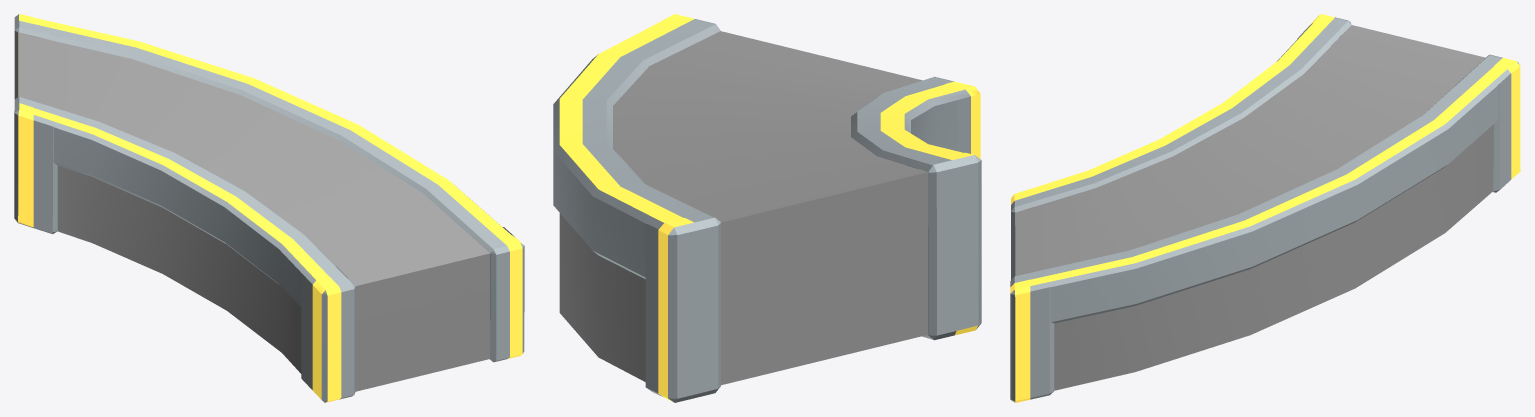
The model's file is SM_60DegreeUpwards_v1.fbx.
3 views of the same model, side by side, from view 1: azimuth 30°, elevation 25°; view 2: azimuth 150°, elevation 25°; view 3: azimuth 270°, elevation 25° (orthographic). The views are drawn at different scales.
Parts seen in each view (by area): view 1: SM_60DegUpwards_HologramMain_v1, SM_60DegUpwards_MainStructure_v1, SM_60DegUpwards_HologramInner_v1, SM_60DegUpwards_HologramLower_v1, SM_60DegUpwards_LowerStructure_v1, SM_60DegUpwards_InnerStructure_v1, SM_60DegUpwards_HologramMainLower_v1, SM_60DegUpwards_OuterStructure_v1; view 2: SM_60DegUpwards_HologramMain_v1, SM_60DegUpwards_MainStructure_v1, SM_60DegUpwards_HologramUpper_v1, SM_60DegUpwards_OuterStructure_v1, SM_60DegUpwards_HologramMain_Upper_v1, SM_60DegUpwards_InnerStructure_v1, SM_60DegUpwards_HologramOuter_v1, SM_60DegUpwards_UpperStructure_v1; view 3: SM_60DegUpwards_HologramMain_v1, SM_60DegUpwards_MainStructure_v1, SM_60DegUpwards_HologramOuter_v1, SM_60DegUpwards_OuterStructure_v1, SM_60DegUpwards_LowerStructure_v1.
Part boxes in pixels (box(x1,y1,x2,y2)): SM_60DegUpwards_HologramMain_v1: box(19, 33, 489, 285); SM_60DegUpwards_MainStructure_v1: box(18, 18, 510, 323); SM_60DegUpwards_HologramInner_v1: box(57, 165, 301, 373); SM_60DegUpwards_HologramLower_v1: box(355, 289, 489, 391); SM_60DegUpwards_LowerStructure_v1: box(311, 227, 522, 402); SM_60DegUpwards_InnerStructure_v1: box(14, 97, 338, 402); SM_60DegUpwards_HologramMainLower_v1: box(355, 253, 489, 321); SM_60DegUpwards_OuterStructure_v1: box(14, 14, 524, 352); SM_60DegUpwards_HologramMain_v1: box(613, 31, 927, 222); SM_60DegUpwards_MainStructure_v1: box(553, 19, 970, 278); SM_60DegUpwards_HologramUpper_v1: box(721, 227, 927, 385); SM_60DegUpwards_OuterStructure_v1: box(645, 14, 720, 402); SM_60DegUpwards_HologramMain_Upper_v1: box(721, 172, 927, 277); SM_60DegUpwards_InnerStructure_v1: box(906, 76, 981, 339); SM_60DegUpwards_HologramOuter_v1: box(559, 213, 645, 381); SM_60DegUpwards_UpperStructure_v1: box(646, 165, 977, 340); SM_60DegUpwards_HologramMain_v1: box(1015, 25, 1485, 276); SM_60DegUpwards_MainStructure_v1: box(1011, 17, 1510, 323); SM_60DegUpwards_HologramOuter_v1: box(1054, 125, 1493, 390); SM_60DegUpwards_OuterStructure_v1: box(1012, 54, 1520, 402); SM_60DegUpwards_LowerStructure_v1: box(1010, 194, 1050, 402).
Size of what is drawn, in the model's own units: 3.52 by 2.08 by 4.38.
